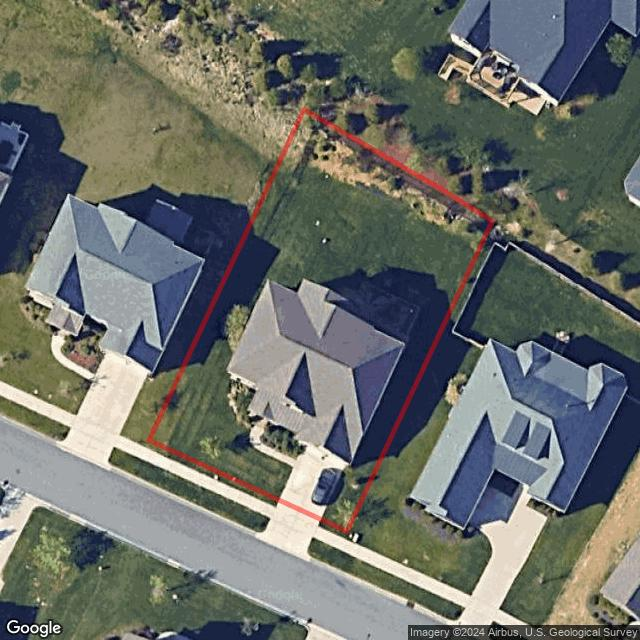Driveway: (278, 435, 348, 520)
Extra-Driveway: (257, 502, 320, 557)
Extra-Lawn: (132, 459, 270, 532), (145, 439, 279, 507), (308, 539, 341, 568), (318, 519, 348, 539)
Extra-Sidewalk: (140, 447, 276, 518), (312, 526, 346, 551)
House: (225, 278, 407, 466)
Lawn: (149, 108, 492, 532)
Other: (282, 108, 492, 246), (332, 279, 422, 342), (260, 422, 303, 457), (229, 378, 257, 430), (226, 308, 252, 354)
Sidewalk: (248, 416, 296, 468)
